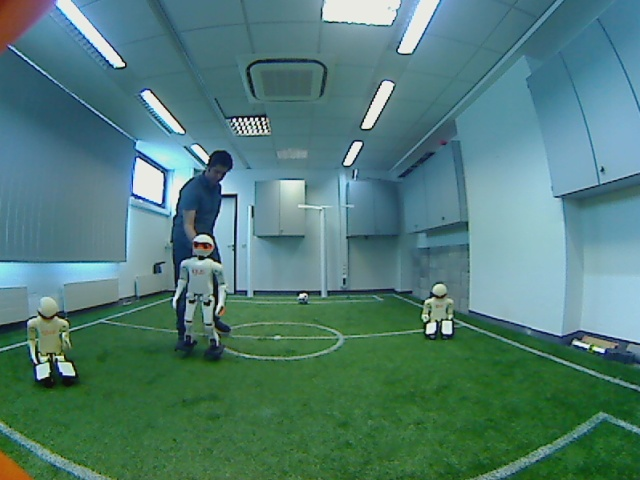ball: (293, 287, 315, 308)
robot: (174, 230, 232, 363), (24, 293, 85, 388), (415, 279, 461, 344)
